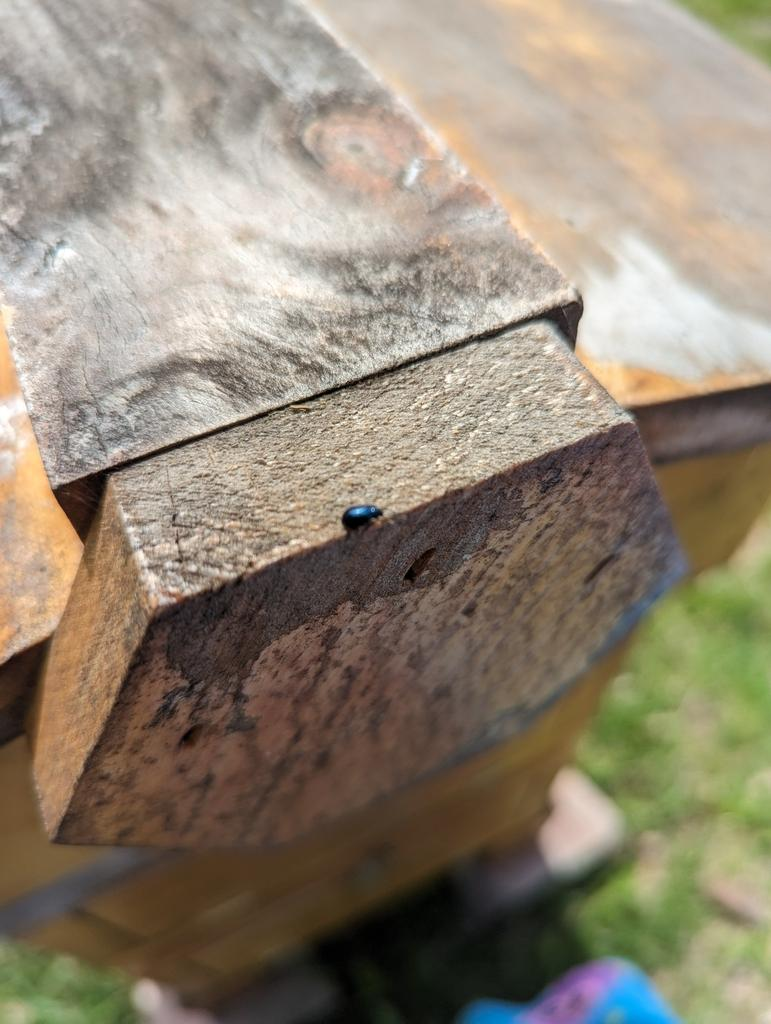flea_beetle: (321, 473, 403, 542)
